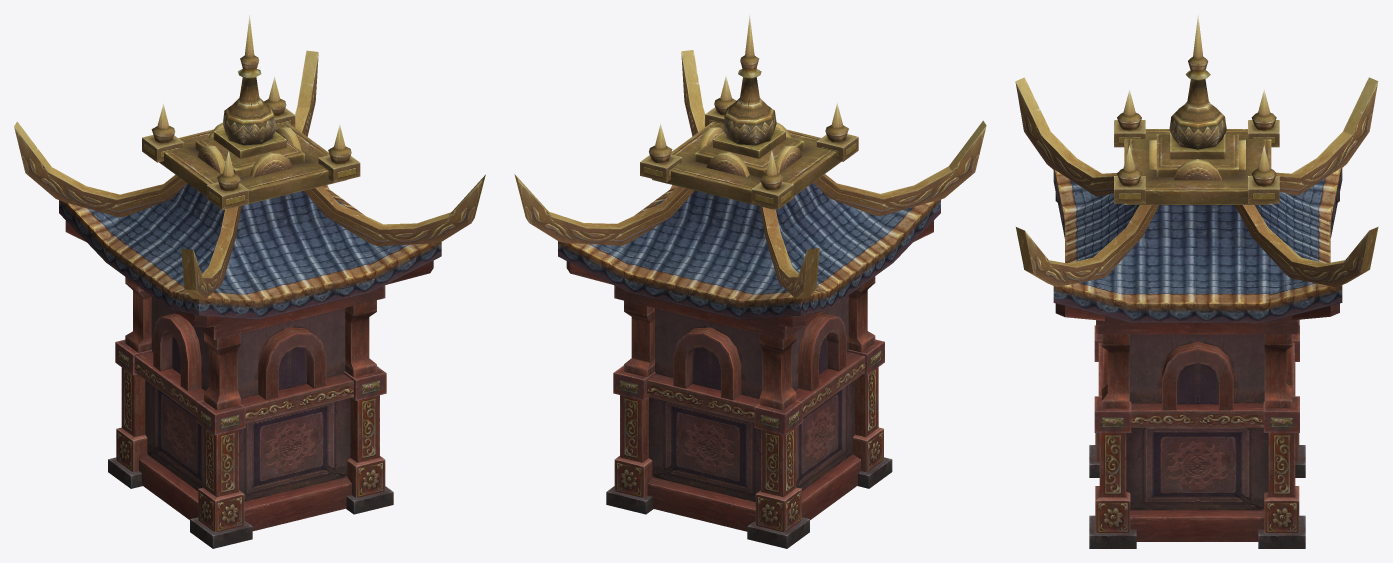
File: que_lou_005.FBX
3 views of the same model, side by side, from view 1: azimuth 30°, elevation 25°; view 2: azimuth 150°, elevation 25°; view 3: azimuth 270°, elevation 25° (orthographic). The views are drawn at different scales.
Parts seen in each view (by area): view 1: que_lou_005_a01; view 2: que_lou_005_a01; view 3: que_lou_005_a01.
Boxes of the visible parts, left/top/right/bottom form: que_lou_005_a01: left=14, top=15, right=485, bottom=548; que_lou_005_a01: left=514, top=15, right=986, bottom=548; que_lou_005_a01: left=1015, top=14, right=1378, bottom=548.
Size of the model in its own units: 1045 by 1554 by 1045.
Materials: 1 (1 with a texture image).
